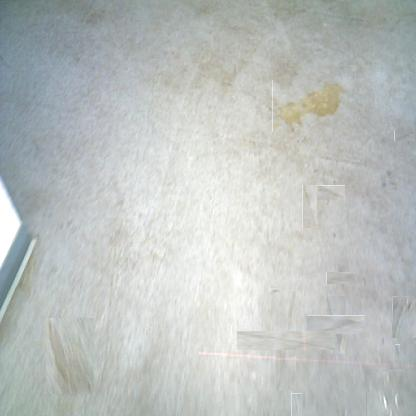liquid: (272, 80, 347, 132), (366, 370, 404, 416), (392, 296, 416, 338), (291, 393, 302, 416)
mark: (46, 318, 94, 394), (256, 311, 316, 370), (317, 306, 356, 344), (302, 184, 317, 228), (321, 182, 342, 204), (331, 268, 353, 289), (383, 172, 401, 190), (397, 127, 413, 144), (270, 285, 279, 294), (394, 344, 400, 357), (379, 335, 385, 346)
